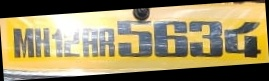character: (116, 19, 152, 58), (152, 20, 188, 59), (224, 21, 261, 58), (188, 20, 223, 56), (13, 27, 34, 58), (81, 26, 98, 58), (34, 27, 51, 58), (63, 28, 81, 57), (99, 27, 115, 58), (51, 28, 63, 58)
